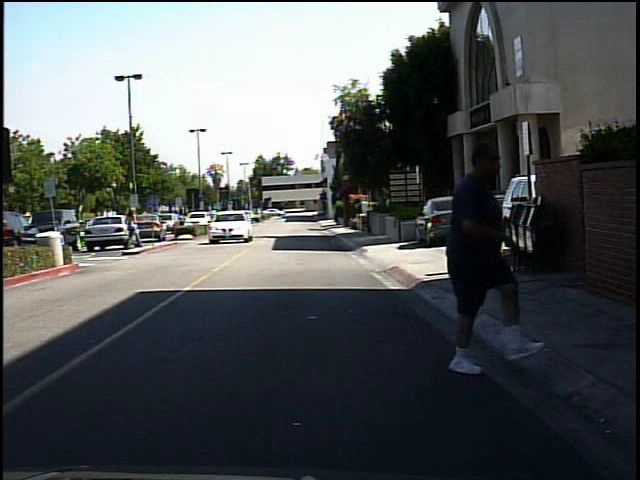person: (431, 130, 537, 380), (121, 204, 144, 253)
